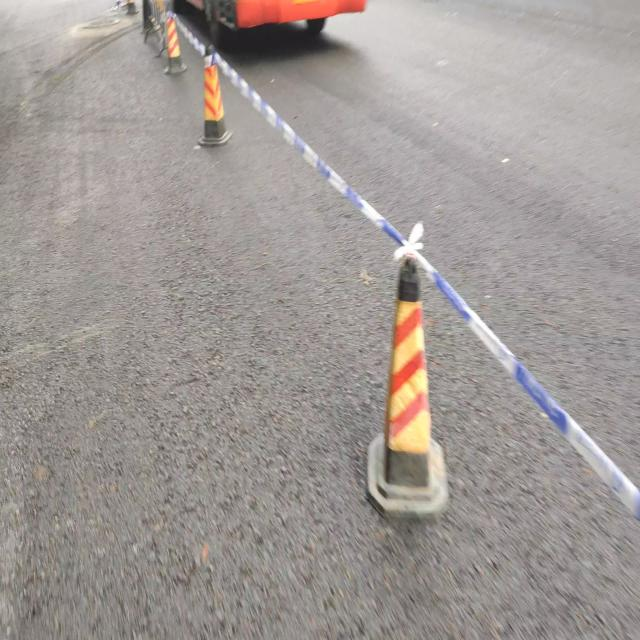reflective_cone: (364, 253, 450, 524), (197, 41, 233, 147), (163, 12, 187, 75)
